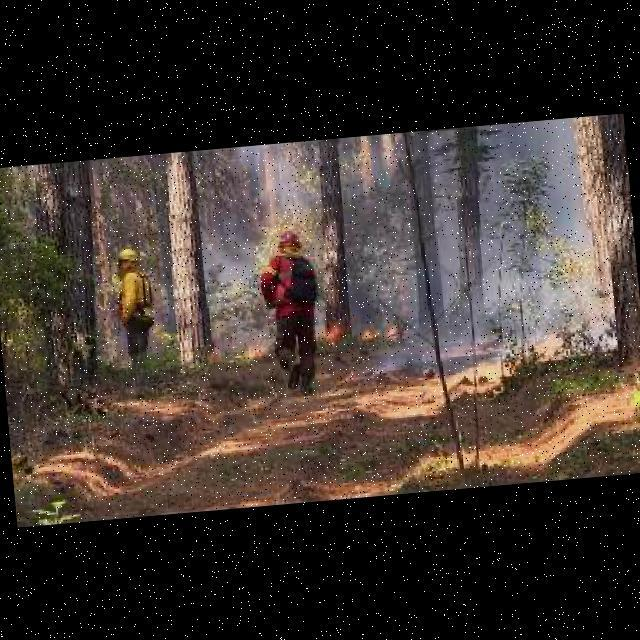Fire: (240, 343, 267, 361), (385, 324, 398, 339), (325, 327, 340, 340), (361, 329, 378, 338)
